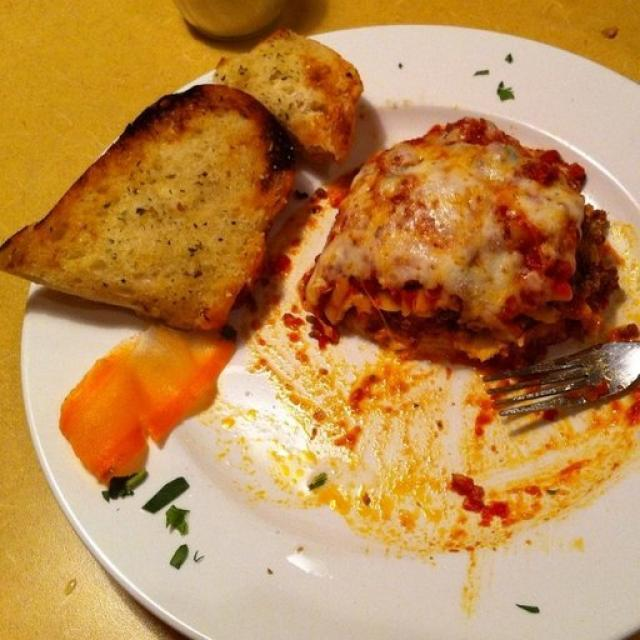Lasagna: (329, 127, 601, 362)
